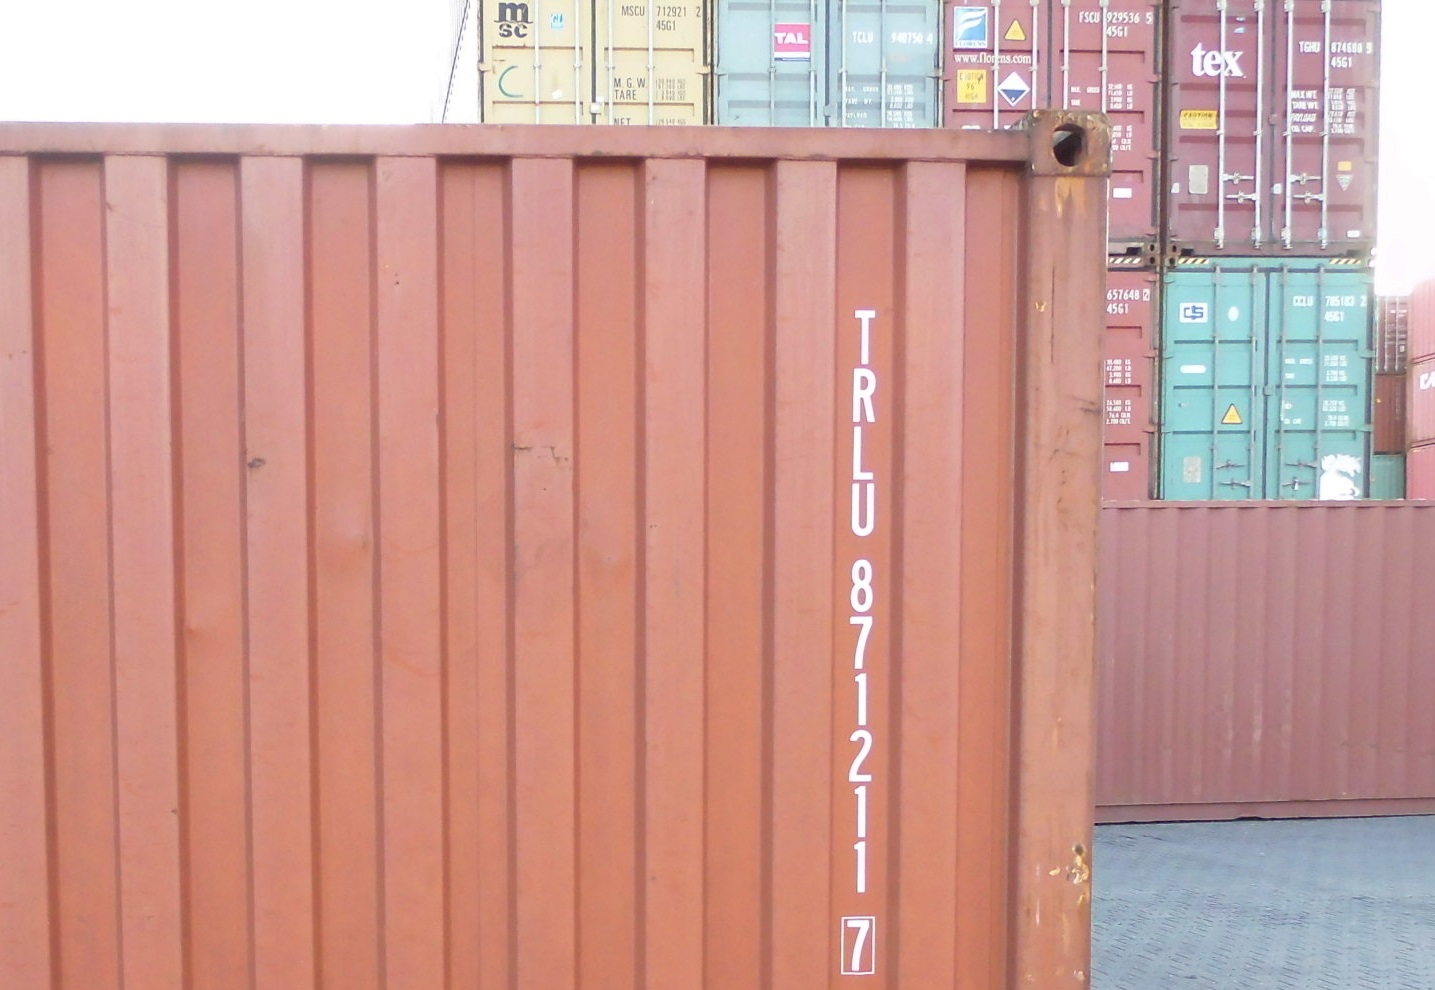container_door: (1157, 1, 1377, 254), (1163, 257, 1375, 507), (475, 5, 714, 121), (706, 1, 945, 116), (922, 1, 1161, 116)
container_no_door: (10, 114, 1094, 990)
